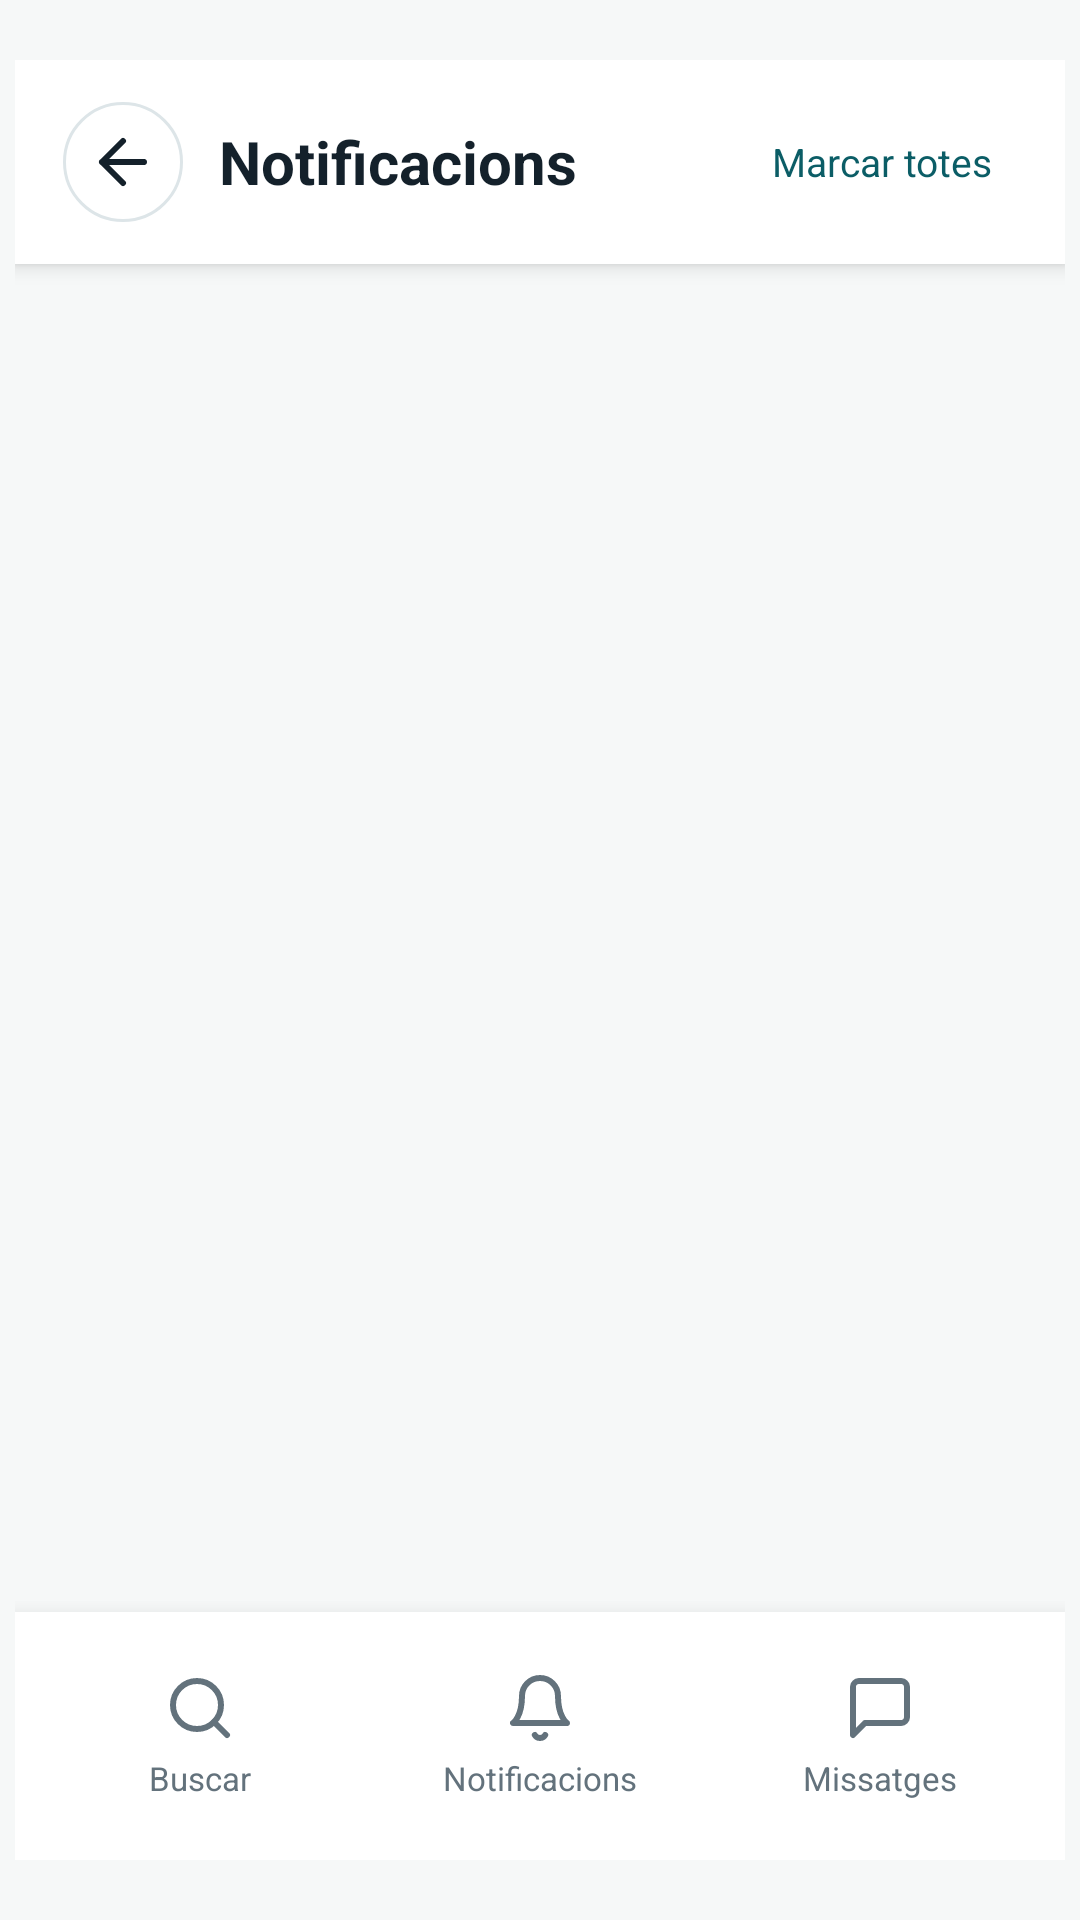

Point at icon controls on the screen. Image size 1080px x 1920px, points as [x,y].
Torna enrere: [123,162]
